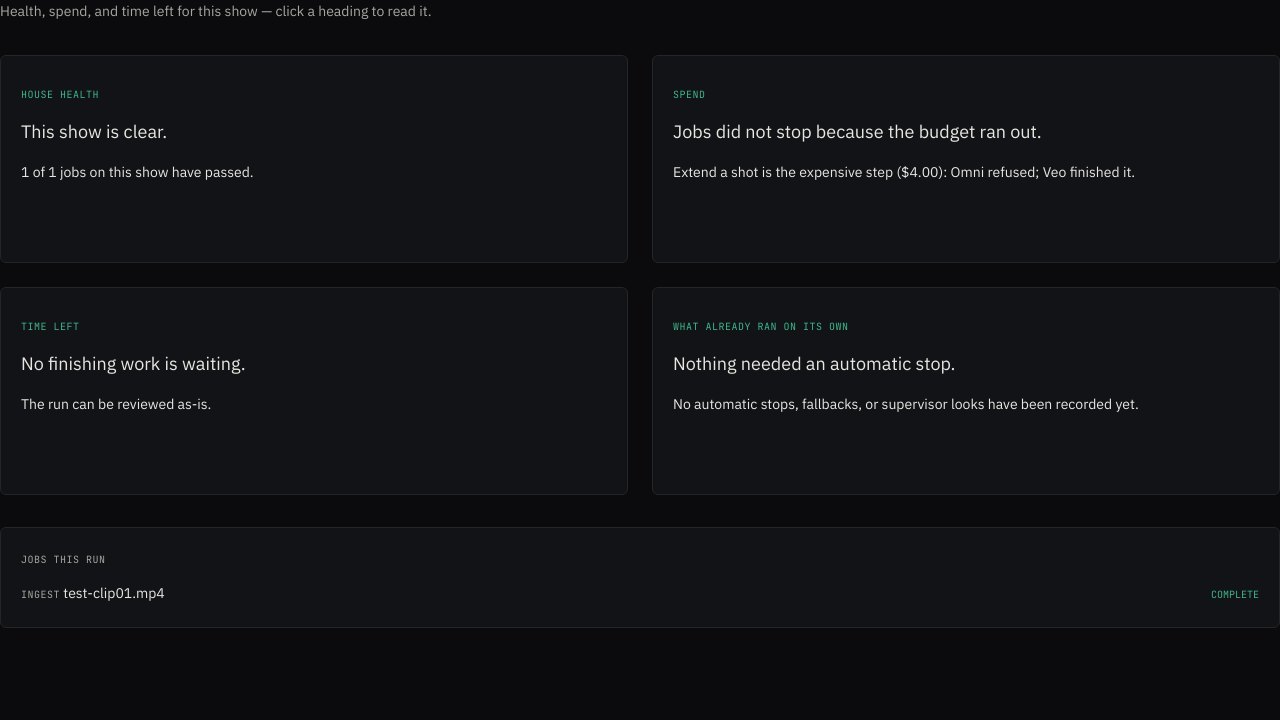
Test case: RunPulseStrip › colors each heading from the run and opens that box in a modal
The image size is (1280, 720).
Click the button "Spend" at x=689, y=94, box [673,87,706,102]
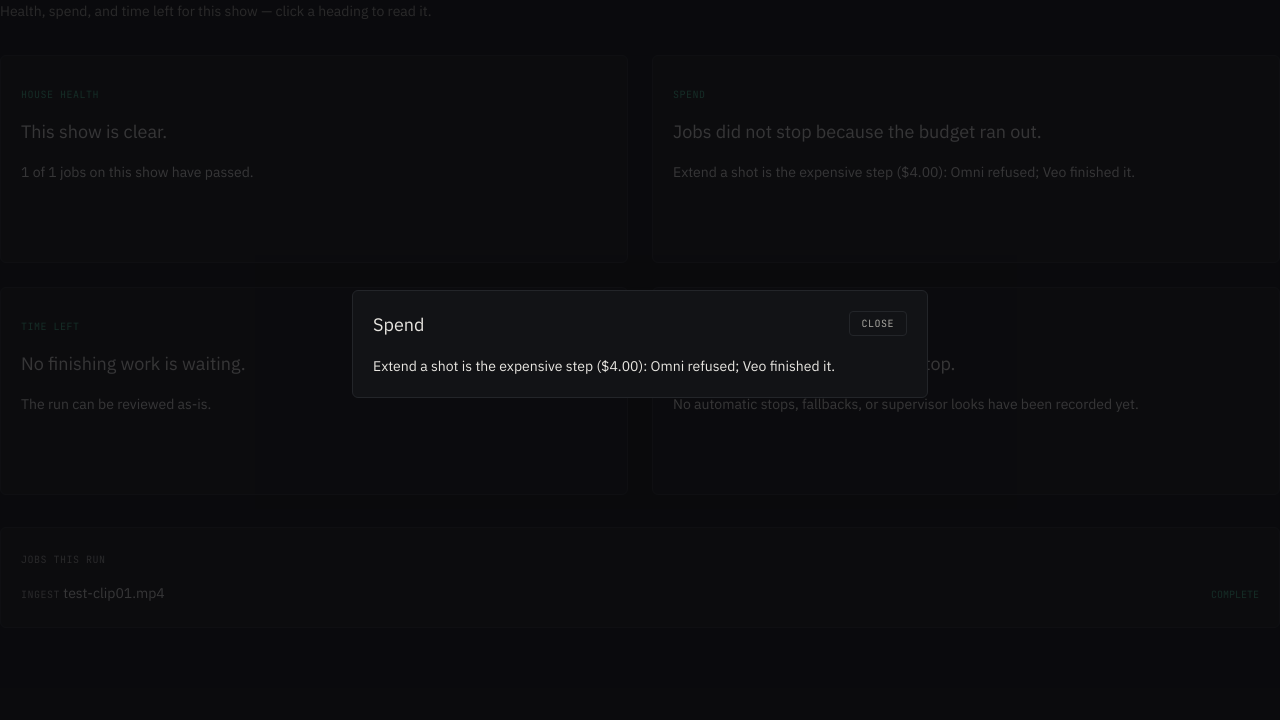
Now the dialog "Spend" is shown, box [352,290,928,398]
Click the button "Close" at x=878, y=323, box [848,311,907,336]
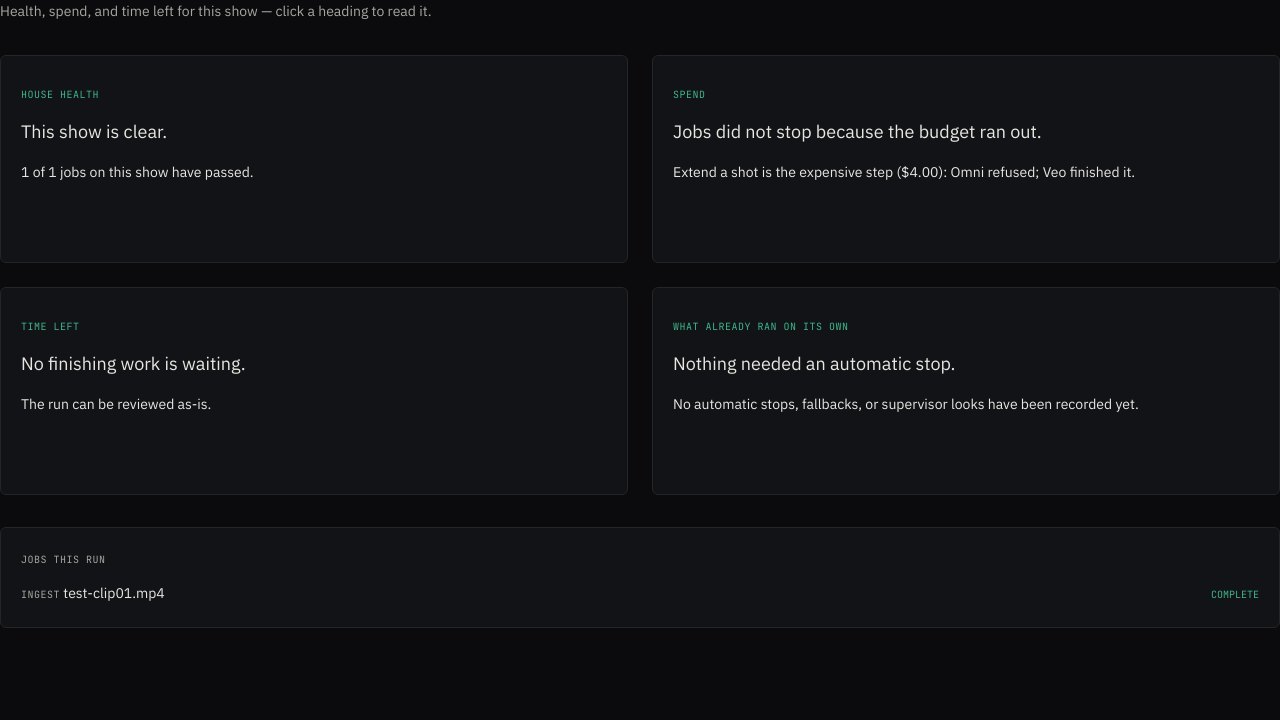
Click the button "Time left" at x=50, y=326, box [21,319,80,334]
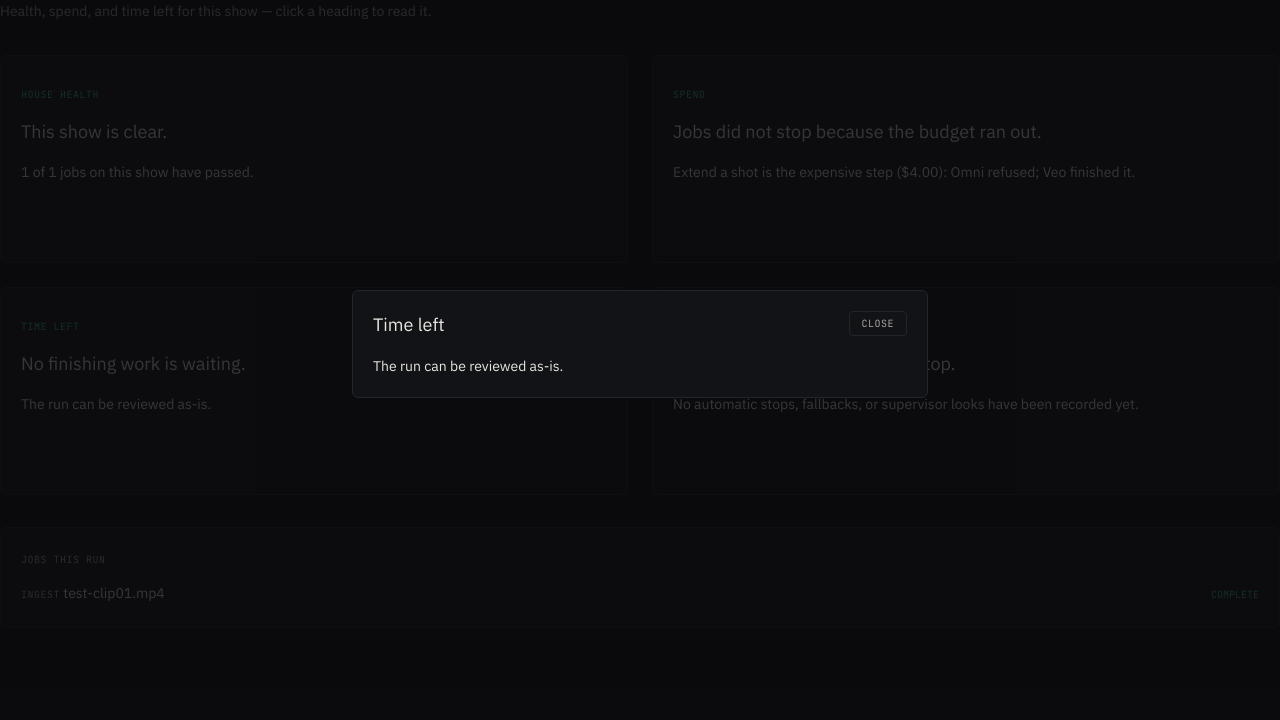
Now the dialog "Time left Close The run can be reviewed as-is." is shown, box [352,290,928,398]
Click the button "Close" at x=878, y=323, box [848,311,907,336]
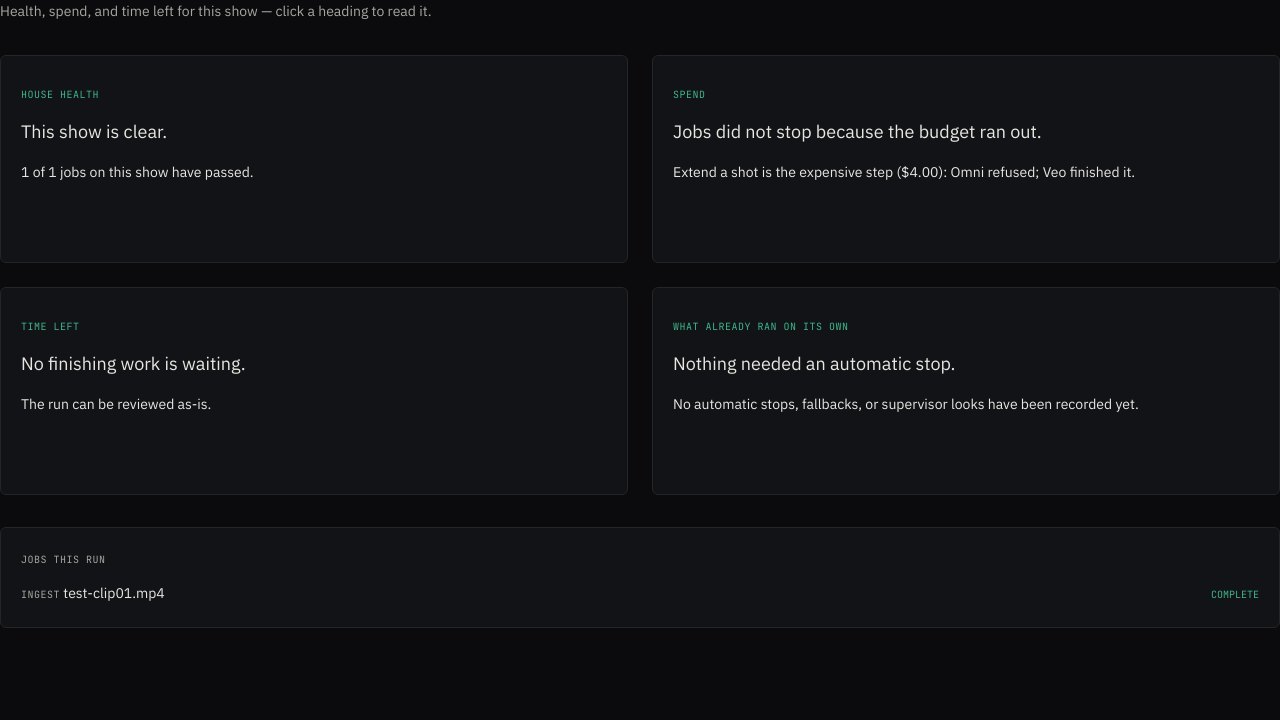
Click the button "What already ran on its own" at x=761, y=326, box [673,319,848,334]
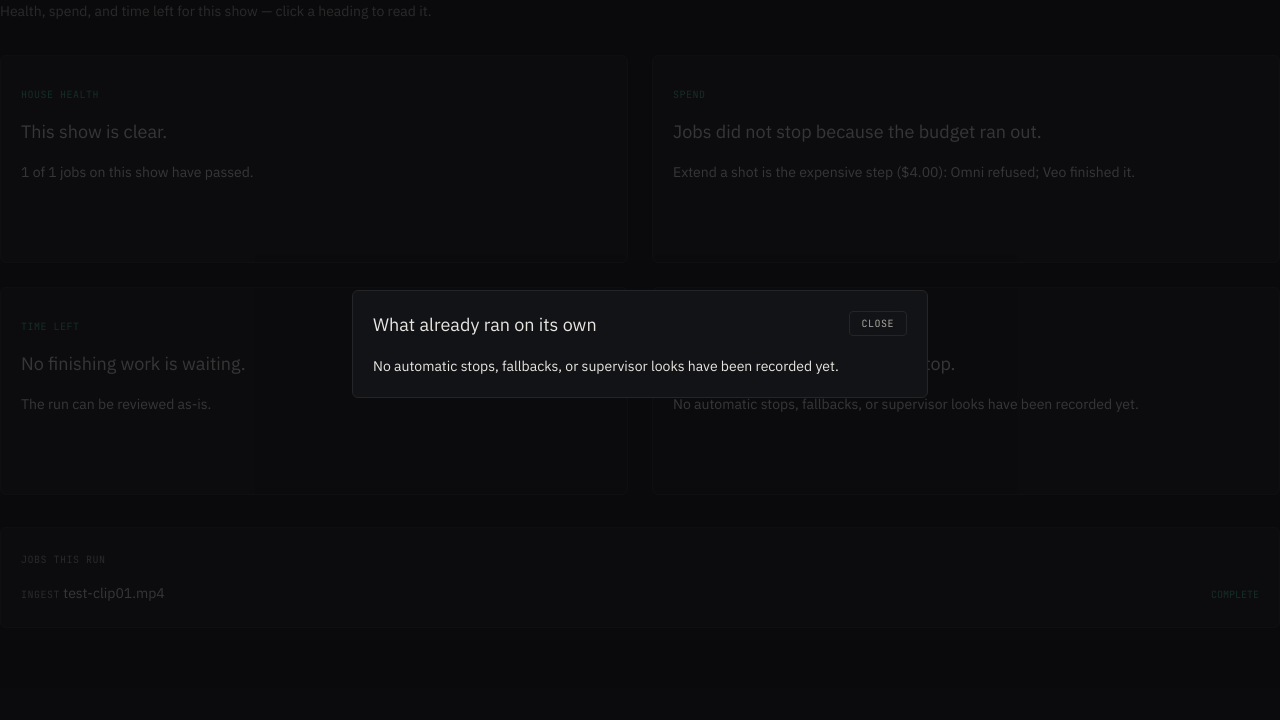
Now the dialog "What already ran" is shown, box [352,290,928,398]
